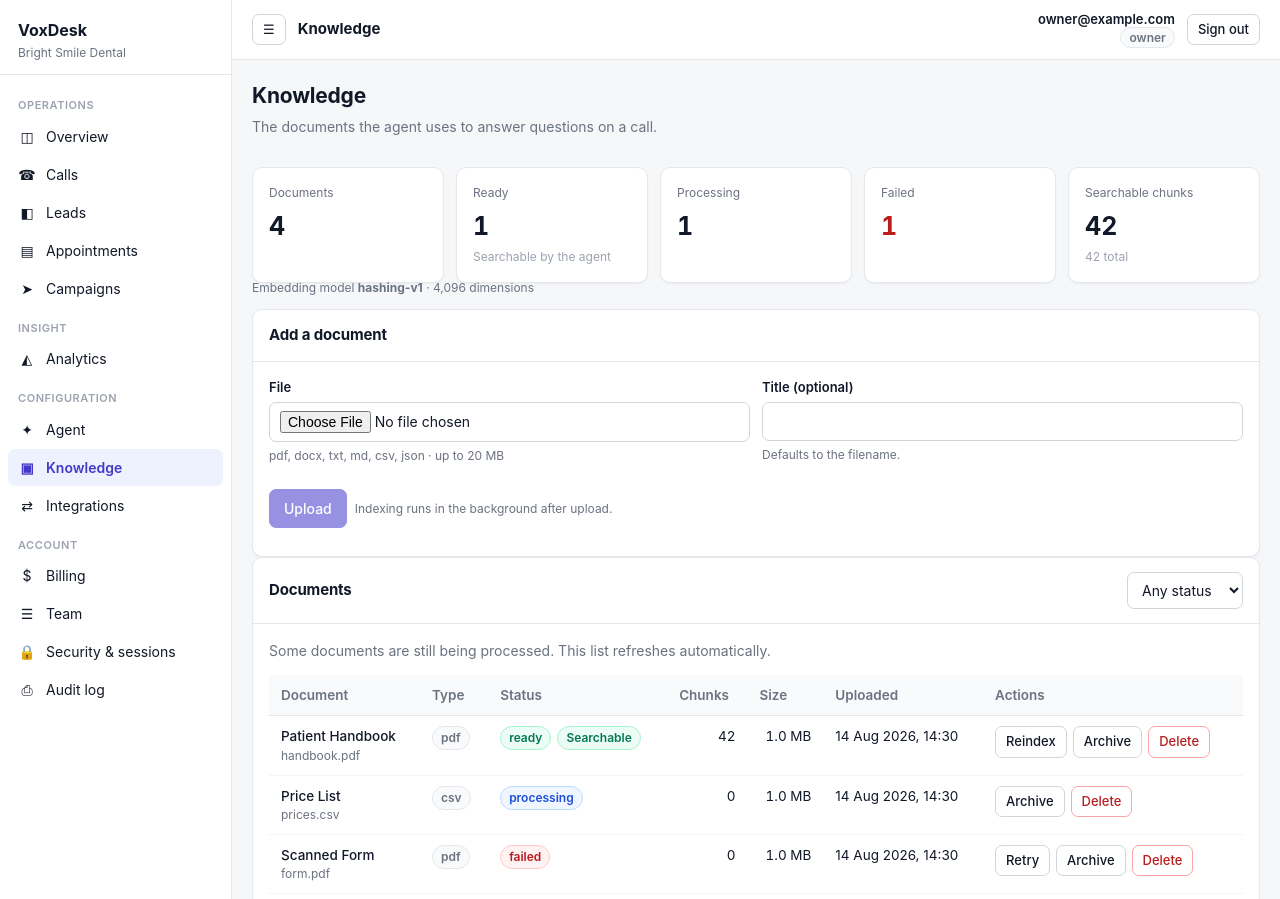
Scenario: row actions match backend semantics › surfaces a failed action without breaking the page
The image size is (1280, 899).
Expected: the heading "Knowledge" is shown, [252,83,366,108]
Step 1. Click the button "Retry" → (1023, 861), box [995,845,1050,876]
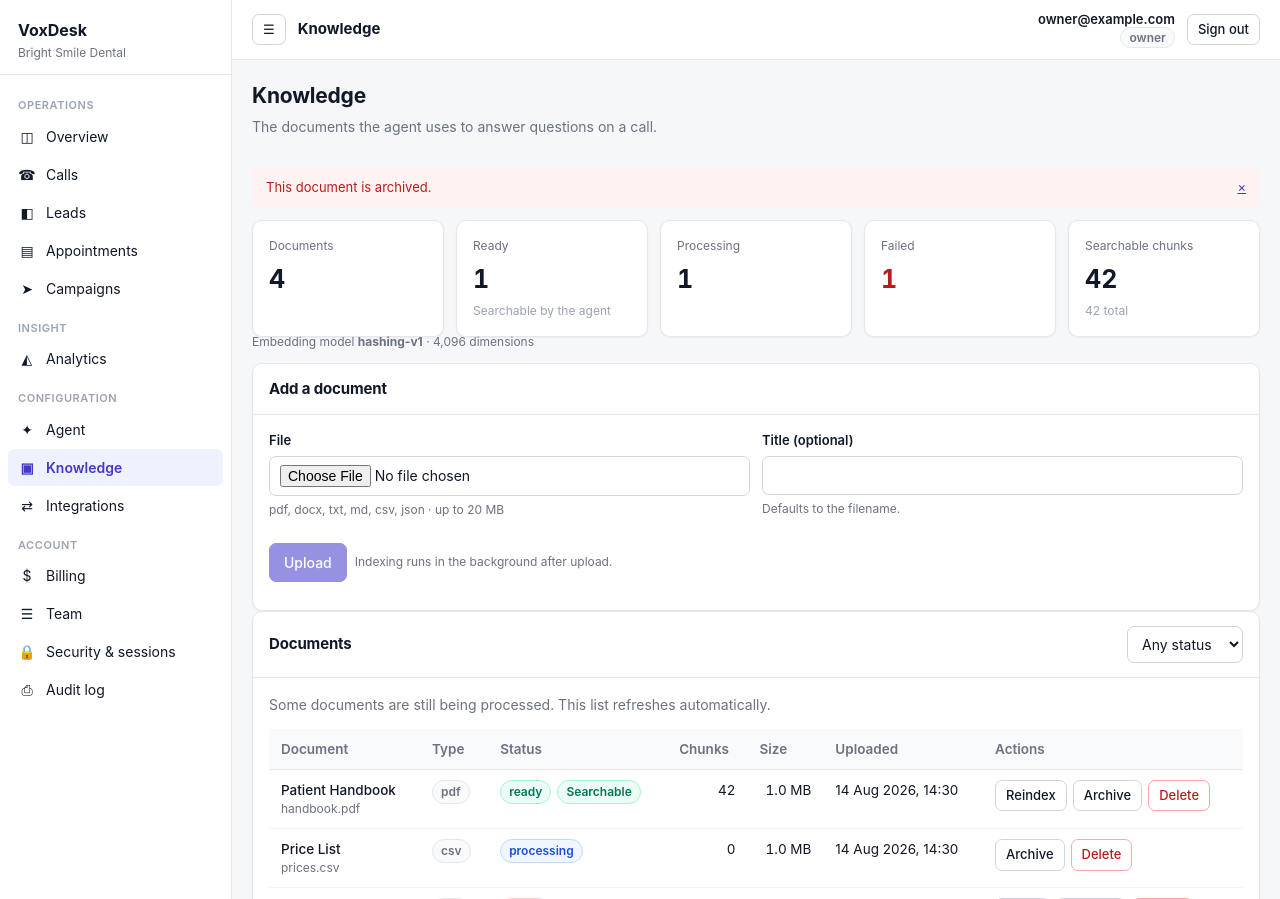
Expected: the text "Patient Handbook" is shown, [281,780,408,800]
Now the text "This document is archived." is shown, box [266,178,431,194]
